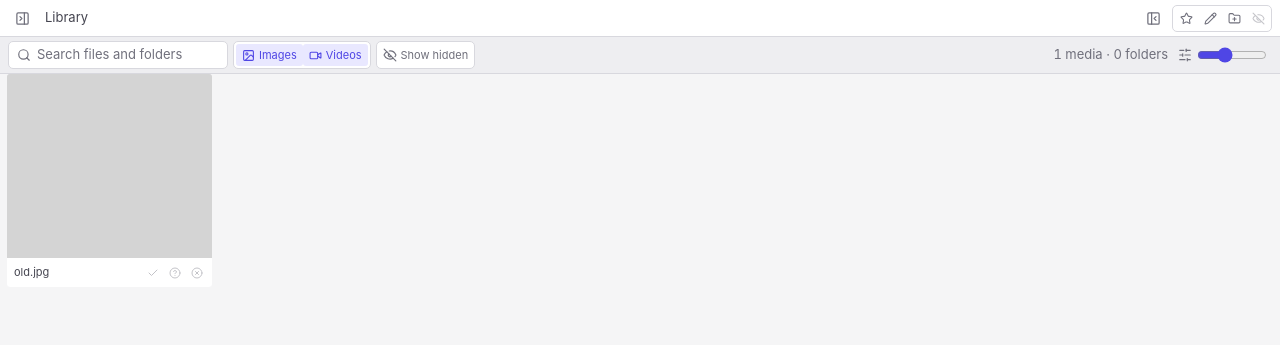
Test case: BrowsePage requests › clears a transient same-folder request error after the next successful response
Expected: the text "old.jpg" is shown, x1=14 y1=265 x2=49 y2=279
Type "broken" into the field labelled "Search files and folders".
click(128, 55); type("broken")  # box x1=37 y1=45 x2=219 y2=65
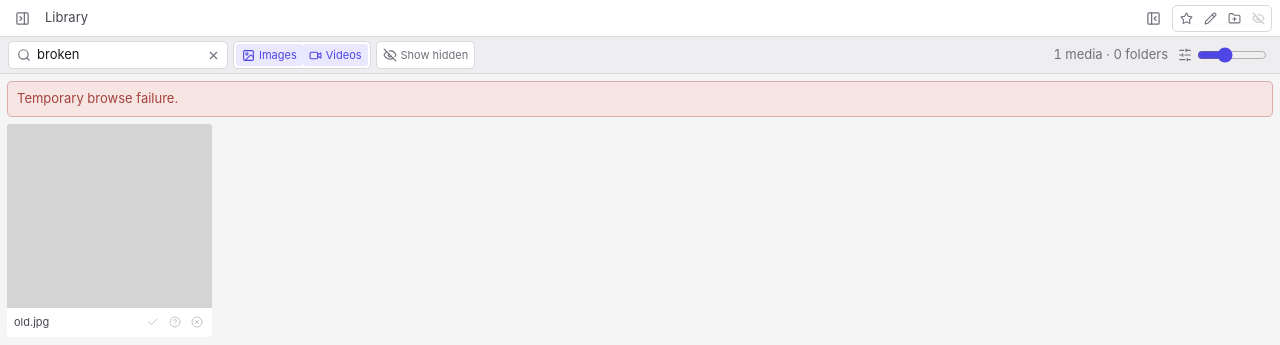
Expected: the text "old.jpg" is shown, x1=14 y1=315 x2=49 y2=329
Result: the text "Temporary browse failure." is shown at x1=7 y1=81 x2=1273 y2=116
Replace the text in the field named "Search files and folders" with "recovered" at (116, 55), box x1=37 y1=45 x2=196 y2=65
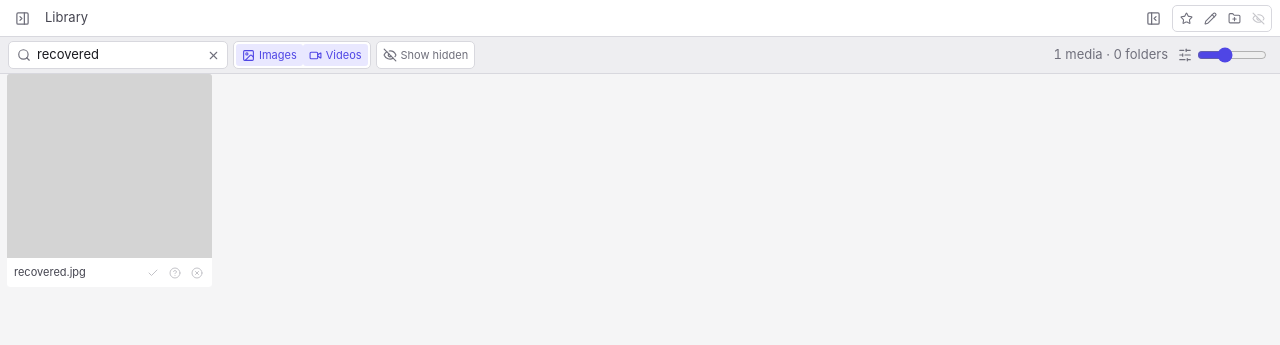
Result: the text "recovered.jpg" is shown at x1=14 y1=265 x2=86 y2=279
Result: the text "Temporary browse failure." is gone
